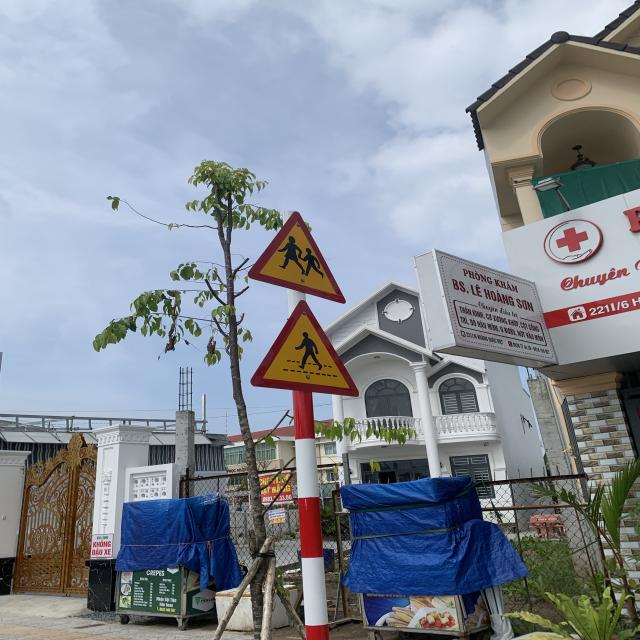Duong_Nguoi_Di_Bo_Sang_Ngang: (250, 298, 360, 398)
Vong_Xuyen: (249, 211, 347, 305)
